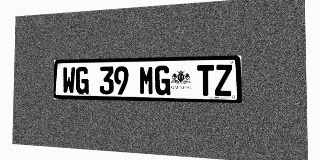3: (99, 66, 114, 94)
9: (114, 66, 128, 95)
G: (155, 65, 170, 95), (75, 67, 89, 94)
M: (139, 66, 154, 95)
T: (197, 65, 214, 96)
W: (62, 67, 75, 94)
Z: (215, 64, 232, 96)
